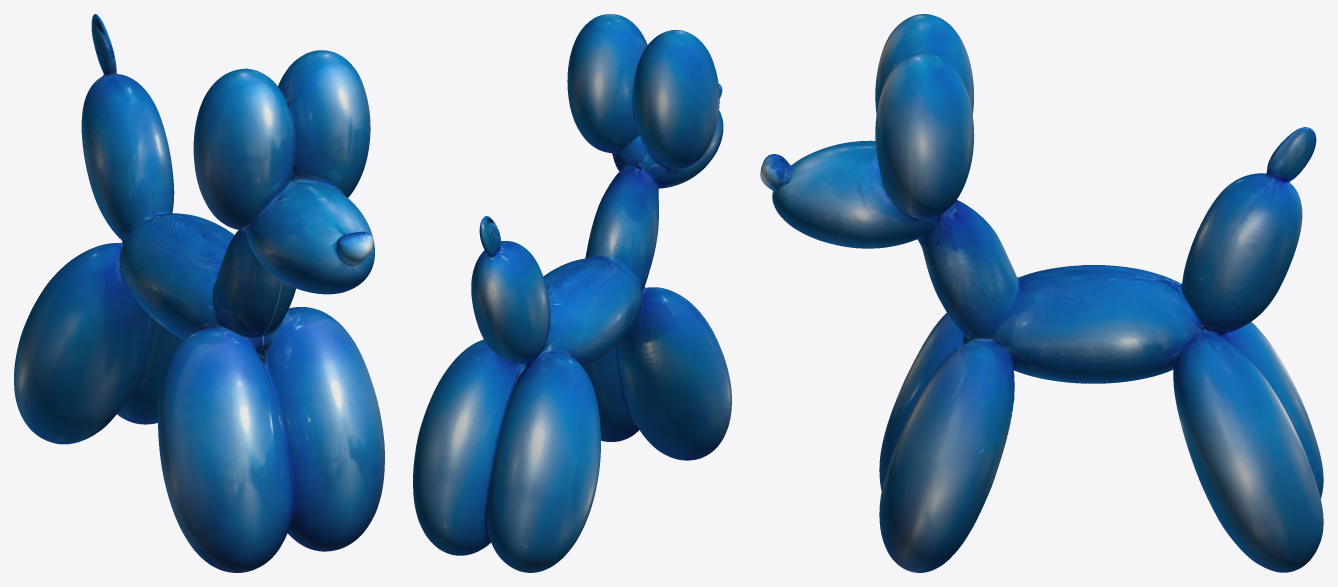
File: 3dmodale.glb
3 renders of one model, left to right at view 1: azimuth 30°, elevation 25°; view 2: azimuth 150°, elevation 25°; view 3: azimuth 270°, elevation 25°, orthographic. The views are drawn at different scales.
Bounding box in the file's own units: 0.8696 × 1.97 × 1.97.
Materials: 1 (1 with a texture image).
